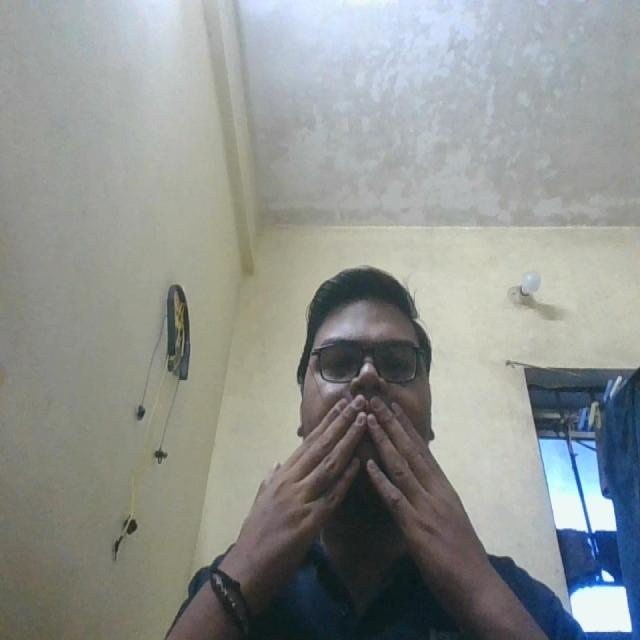Thanks: (238, 382, 491, 606)
